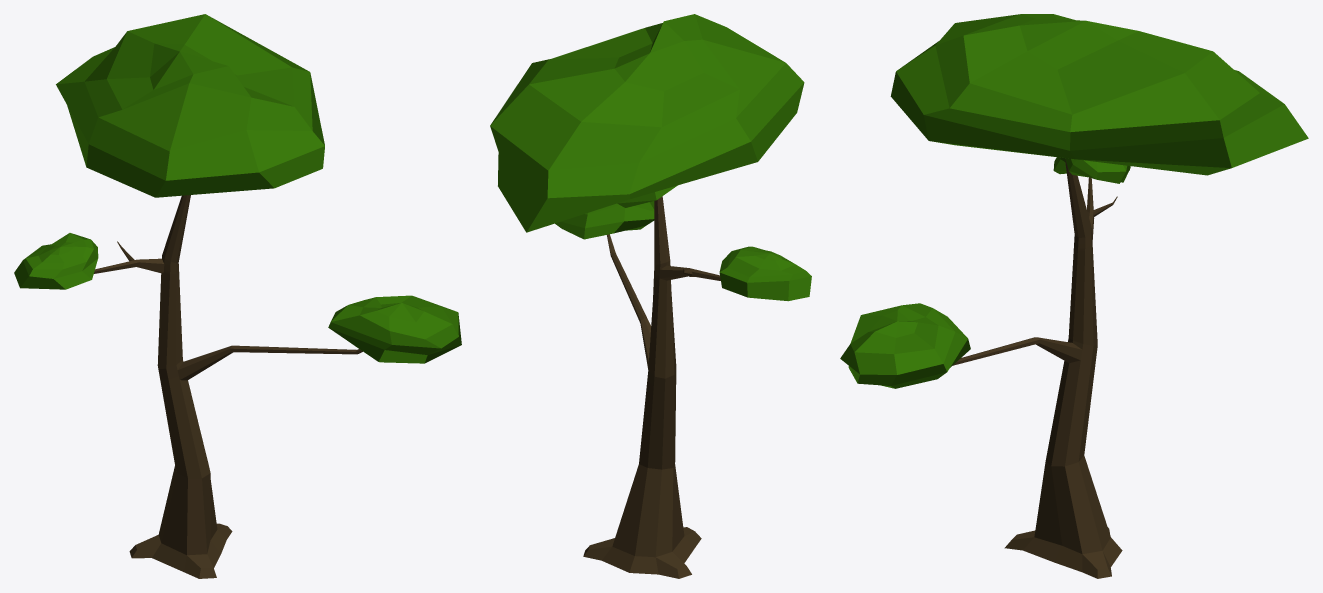
Rendered from low-poly_tree.glb.
3 renders of one model, left to right at view 1: azimuth 30°, elevation 25°; view 2: azimuth 150°, elevation 25°; view 3: azimuth 270°, elevation 25°, orthographic. The views are drawn at different scales.
Visible parts, largest first — view 1: Object_2, Object_3; view 2: Object_2, Object_3; view 3: Object_2, Object_3.
Boxes of the visible parts, bbox=[...] form: Object_2: bbox=[14, 14, 461, 363]; Object_3: bbox=[94, 195, 362, 578]; Object_2: bbox=[490, 14, 811, 301]; Object_3: bbox=[583, 196, 720, 578]; Object_2: bbox=[840, 14, 1308, 388]; Object_3: bbox=[952, 159, 1122, 578].
Size of the model in its own units: 24.59 by 33.95 by 27.08.
